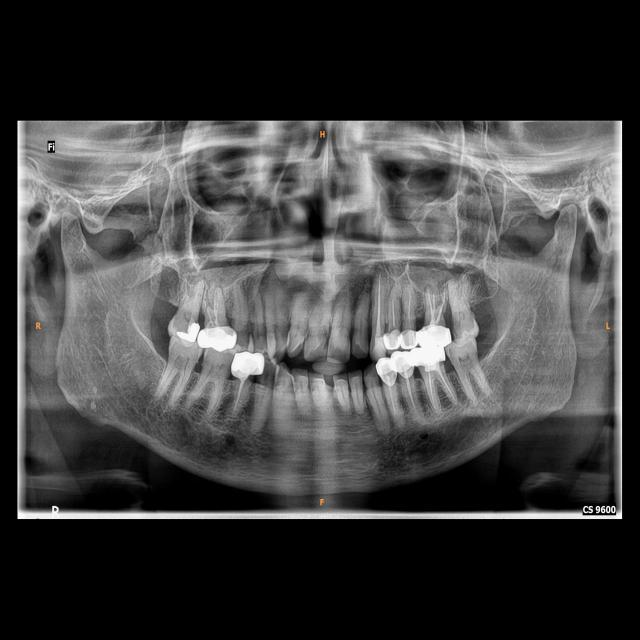dolgu: (167, 315, 200, 345)
kanal-tedavisi: (423, 364, 458, 412), (402, 373, 420, 419), (424, 288, 446, 322), (385, 385, 400, 425), (203, 290, 219, 326), (235, 378, 248, 415), (375, 275, 383, 335), (386, 290, 398, 330), (404, 287, 414, 331)
kaplama: (198, 325, 238, 351), (232, 350, 265, 380), (416, 324, 452, 348), (411, 347, 449, 369), (392, 349, 416, 379), (376, 357, 398, 387), (384, 326, 404, 351), (402, 326, 417, 348)
